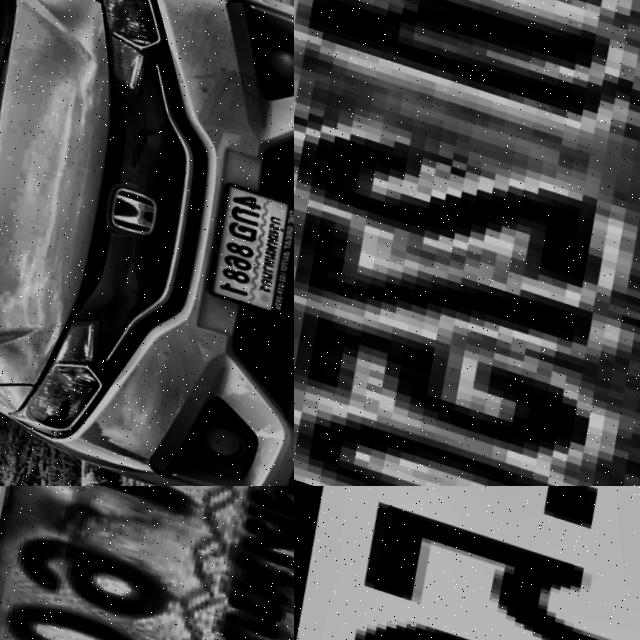license-plate: (294, 0, 640, 486), (294, 486, 640, 640), (0, 486, 294, 640), (188, 164, 294, 309)
